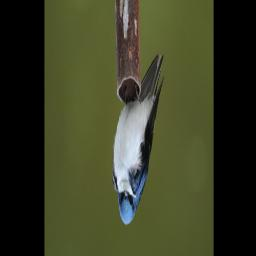Swallow: (112, 52, 165, 227)
